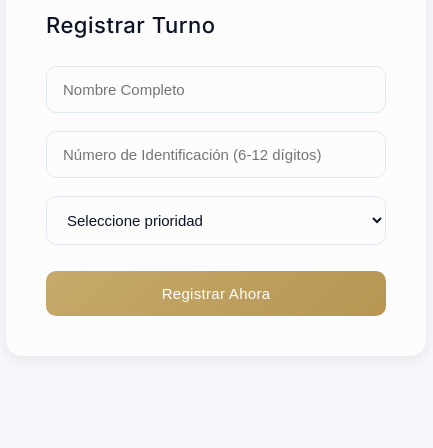
Test case: AppointmentRegistrationForm › Form Validation › should show error for invalid ID card format (too short)
In the field with placeholder "Nombre Completo": [216, 90] box [46,66,386,113], type "John Doe"
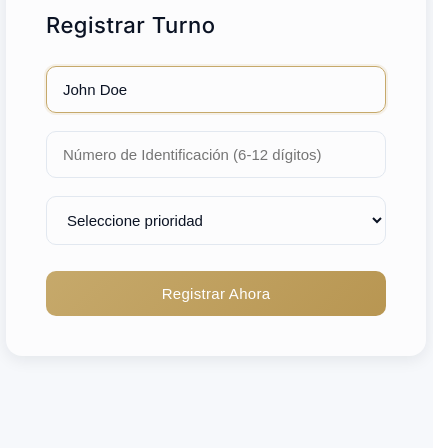
In the field with placeholder "Número de Identificación (6-12 dígitos)": [216, 154] box [46,131,386,178], type "123"
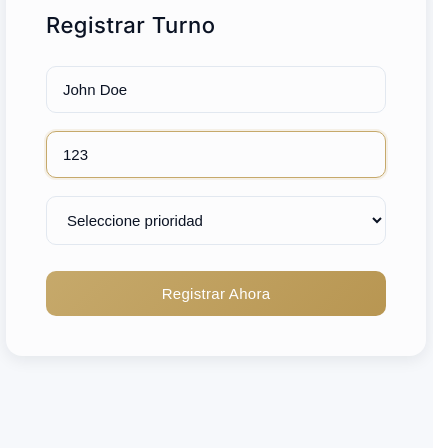
Select "Prioridad Alta" in the dropdown: [216, 220] box [46,196,386,245]
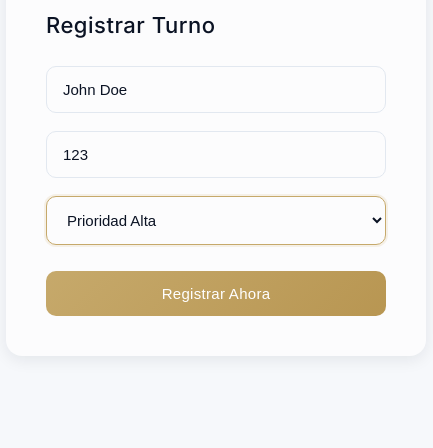
Click the button "Registrar Ahora": [216, 294] box [46,271,386,316]
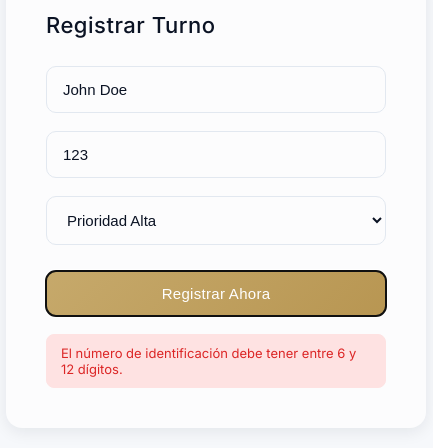
Expected: the text "El número de identificación debe tener entre 6 y 12 dígitos." is shown, [46,334,386,388]
